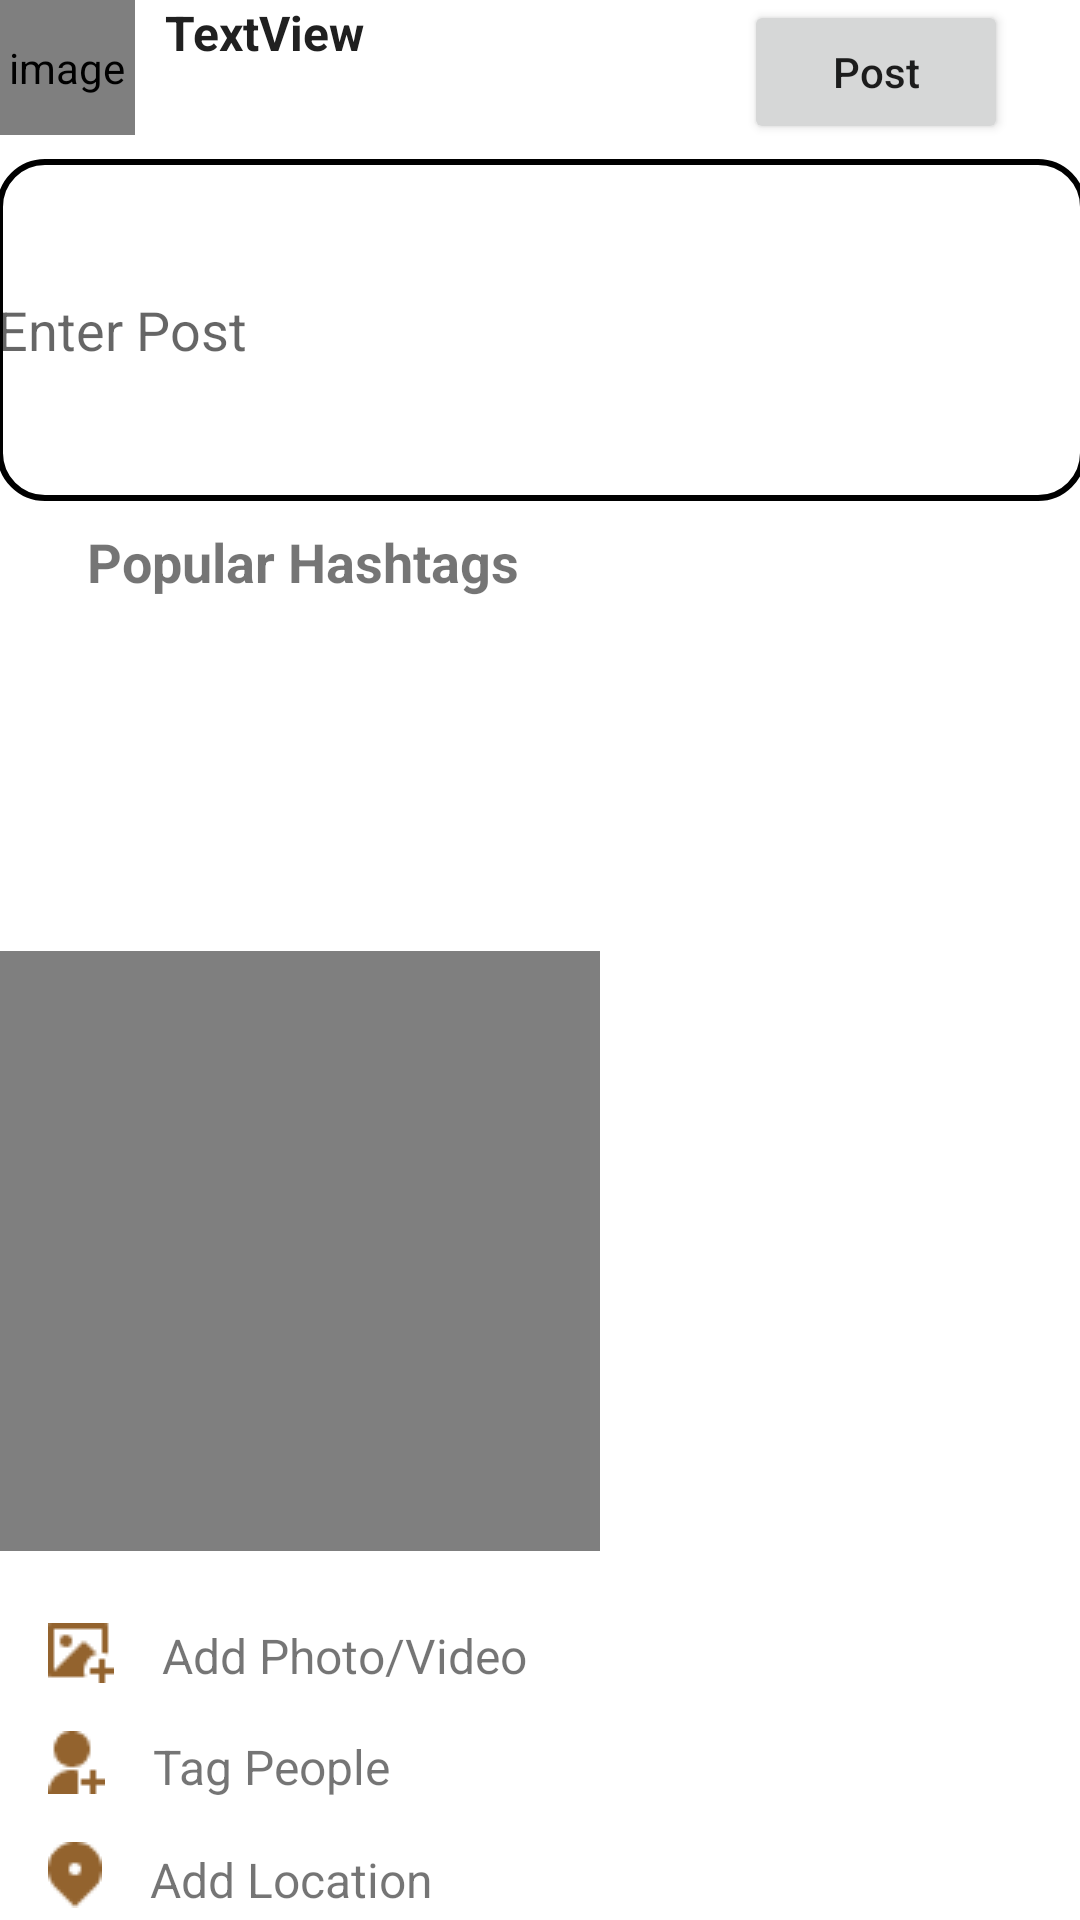

Icons on this 1080w x 1920h Android screen, each with its box as (x1, y1, x2, y2):
addperson: (48, 1731, 105, 1794)
